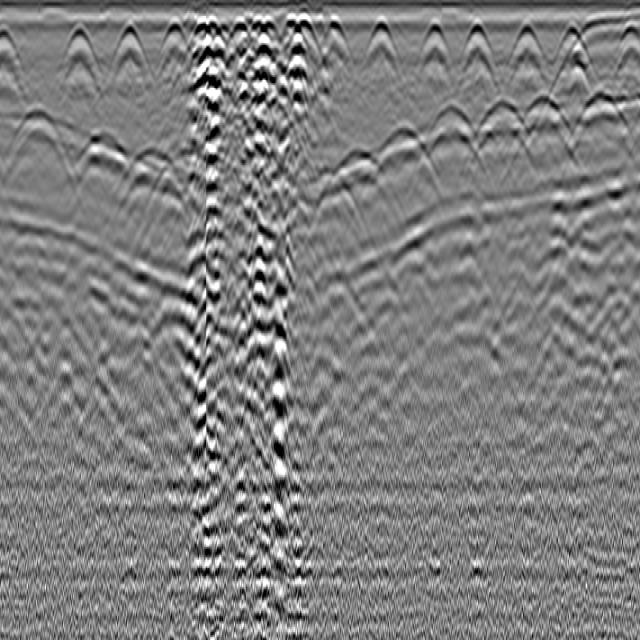hyperbola: (7, 103, 75, 196), (424, 98, 479, 177), (474, 92, 534, 159), (520, 89, 568, 158), (578, 86, 624, 152), (551, 21, 593, 90), (111, 20, 149, 92), (63, 24, 99, 99), (380, 121, 434, 170), (76, 123, 127, 171), (511, 19, 547, 81), (461, 18, 495, 83), (123, 141, 181, 178), (159, 16, 189, 80), (421, 17, 451, 76), (0, 25, 27, 88), (366, 16, 397, 69), (319, 15, 352, 62), (617, 17, 639, 84), (338, 148, 378, 184), (230, 13, 250, 45), (297, 11, 315, 46), (250, 12, 270, 43)
